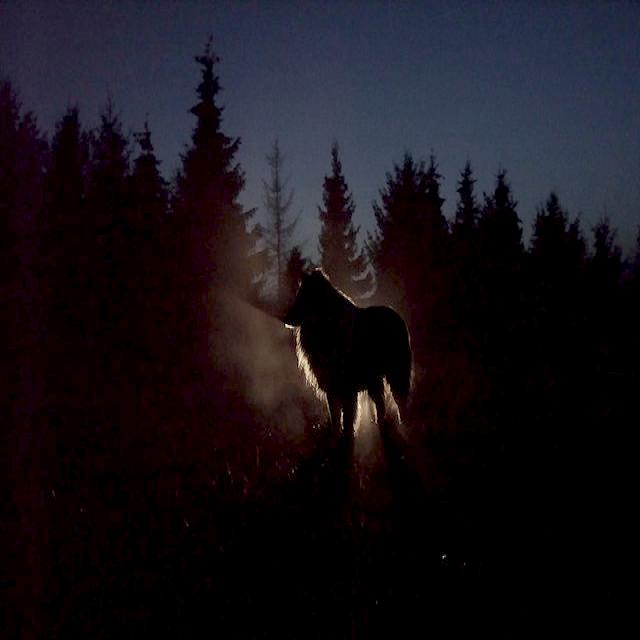Dog: (253, 195, 515, 459)
